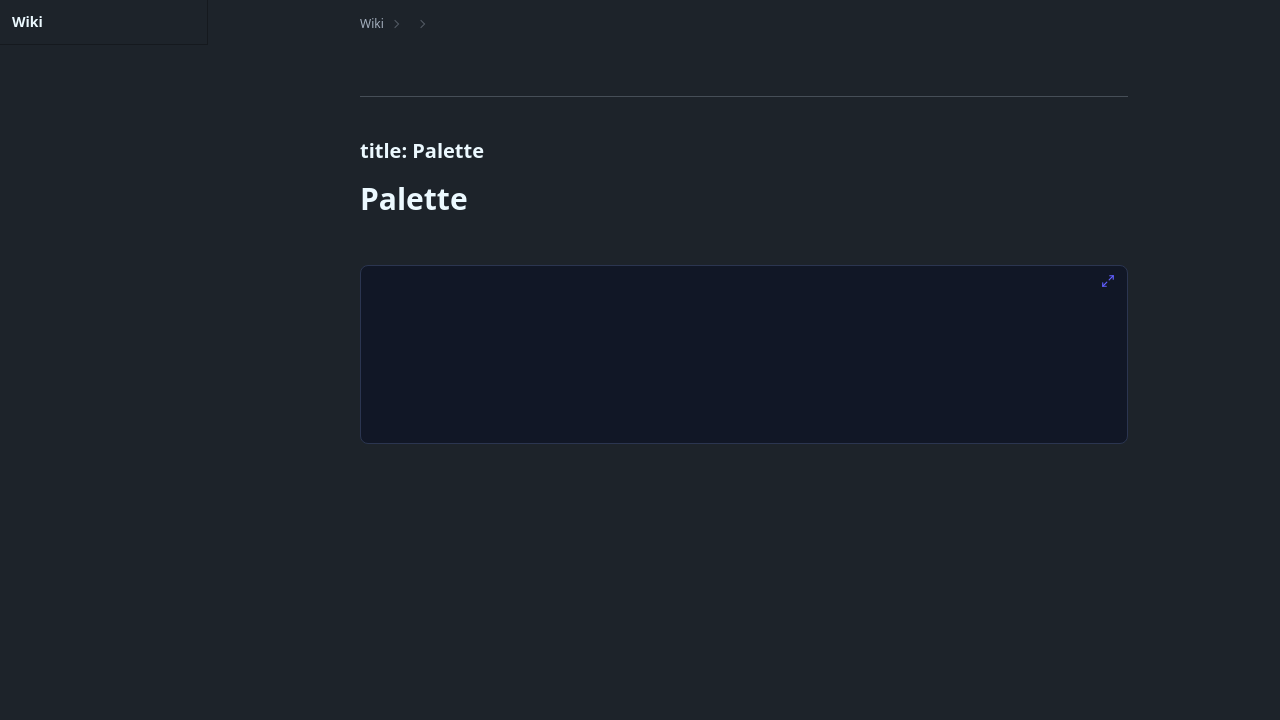
it: WikiViewer mermaid palette — darkness, not the theme NAME › opens a full-screen popout for a figure too wide for the column
What coordinates should you click on to do the following:
click the button named "expand the figure"
I would click on:
 (1108, 281)
Its box is x1=1092 y1=269 x2=1124 y2=293.
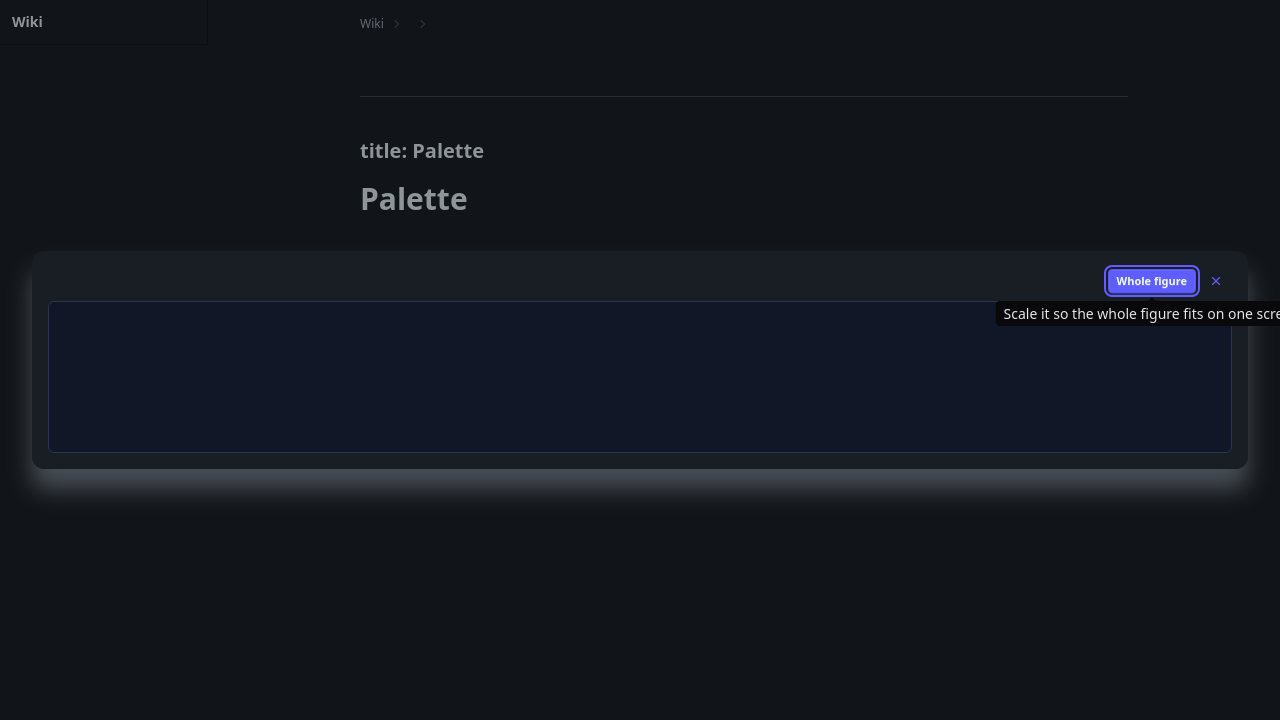
Now the dialog is shown
